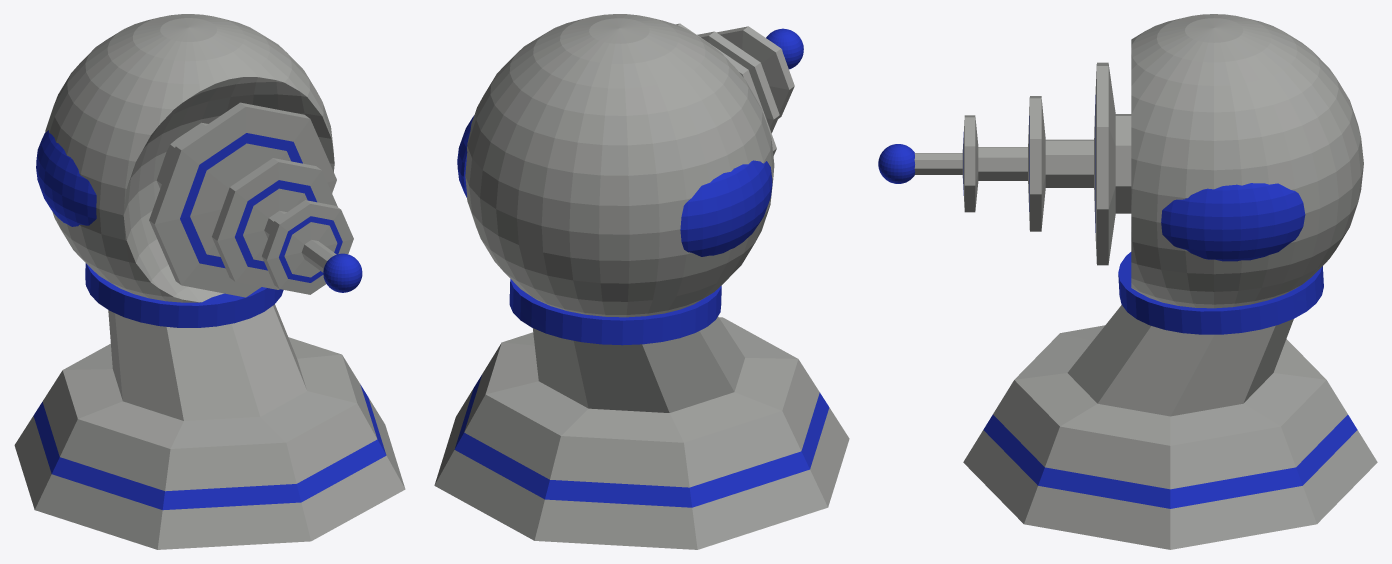
The model's file is Laser_Tower_Water.fbx.
3 views of the same model, side by side, from view 1: azimuth 30°, elevation 25°; view 2: azimuth 150°, elevation 25°; view 3: azimuth 270°, elevation 25° (orthographic). The views are drawn at different scales.
Parts seen in each view (by area): view 1: Sphere; view 2: Sphere; view 3: Sphere.
Boxes of the visible parts, x1=… form: Sphere: x1=14, y1=14, x2=405, y2=549; Sphere: x1=434, y1=14, x2=849, y2=549; Sphere: x1=878, y1=14, x2=1377, y2=549.
Size of the model in its own units: 445 by 514 by 536.
Materials: 1 (1 with a texture image).
